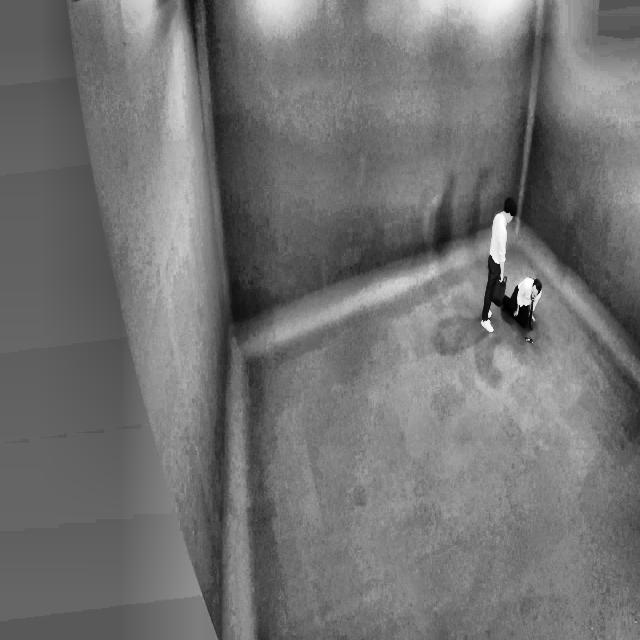assult: (486, 195, 546, 344)
